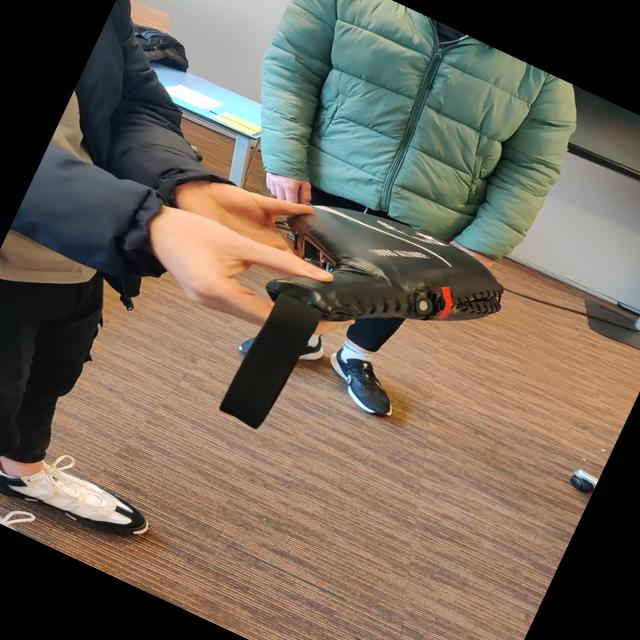paddle: (265, 204, 503, 323)
